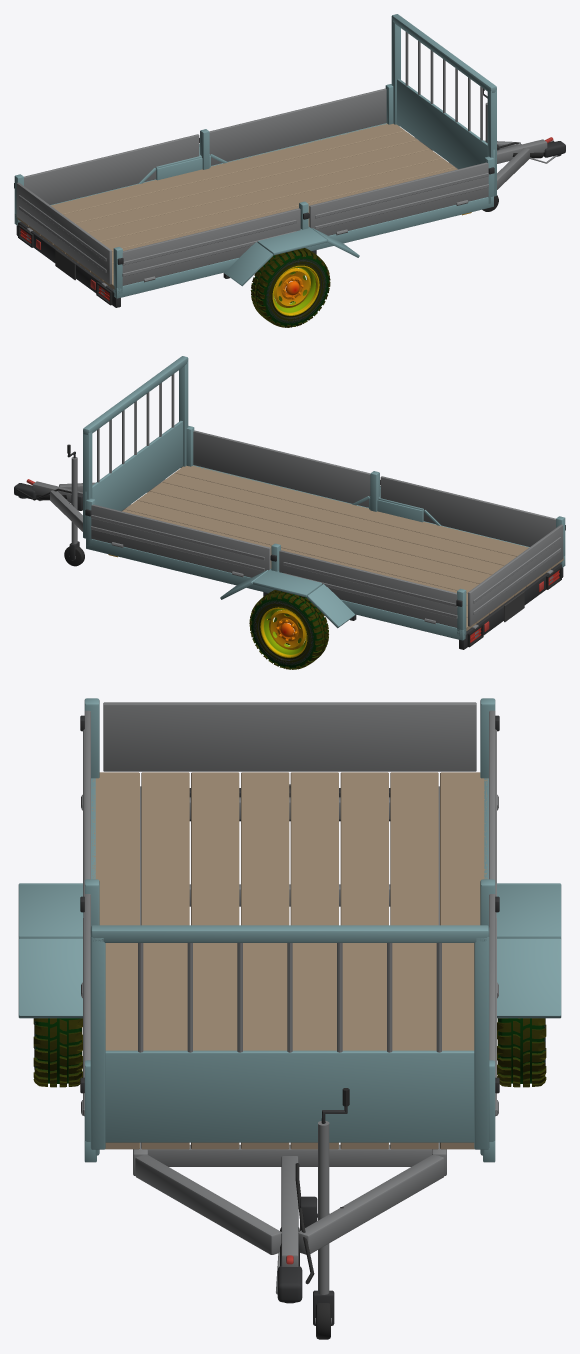
Rendered from flatbed.glb.
3 views of the same model, one above another, from view 1: azimuth 30°, elevation 25°; view 2: azimuth 150°, elevation 25°; view 3: azimuth 270°, elevation 25° (orthographic). The views are drawn at different scales.
Visible parts, largest first — view 1: Trailer_Flat, WheelStock_RR; view 2: Trailer_Flat, WheelStock_RL, Jockey; view 3: Trailer_Flat, WheelStock_RR, WheelStock_RL, Jockey.
Boxes of the visible parts, bbox=[...] form: Trailer_Flat: bbox=[14, 14, 565, 307]; WheelStock_RR: bbox=[250, 248, 330, 327]; Trailer_Flat: bbox=[14, 356, 565, 649]; WheelStock_RL: bbox=[249, 590, 328, 669]; Jockey: bbox=[64, 444, 84, 566]; Trailer_Flat: bbox=[18, 698, 561, 1303]; WheelStock_RR: bbox=[33, 1018, 82, 1087]; WheelStock_RL: bbox=[497, 1018, 546, 1087]; Jockey: bbox=[313, 1088, 349, 1339].
Bounding box in the file's own units: 4.65 × 1.59 × 2.18.
